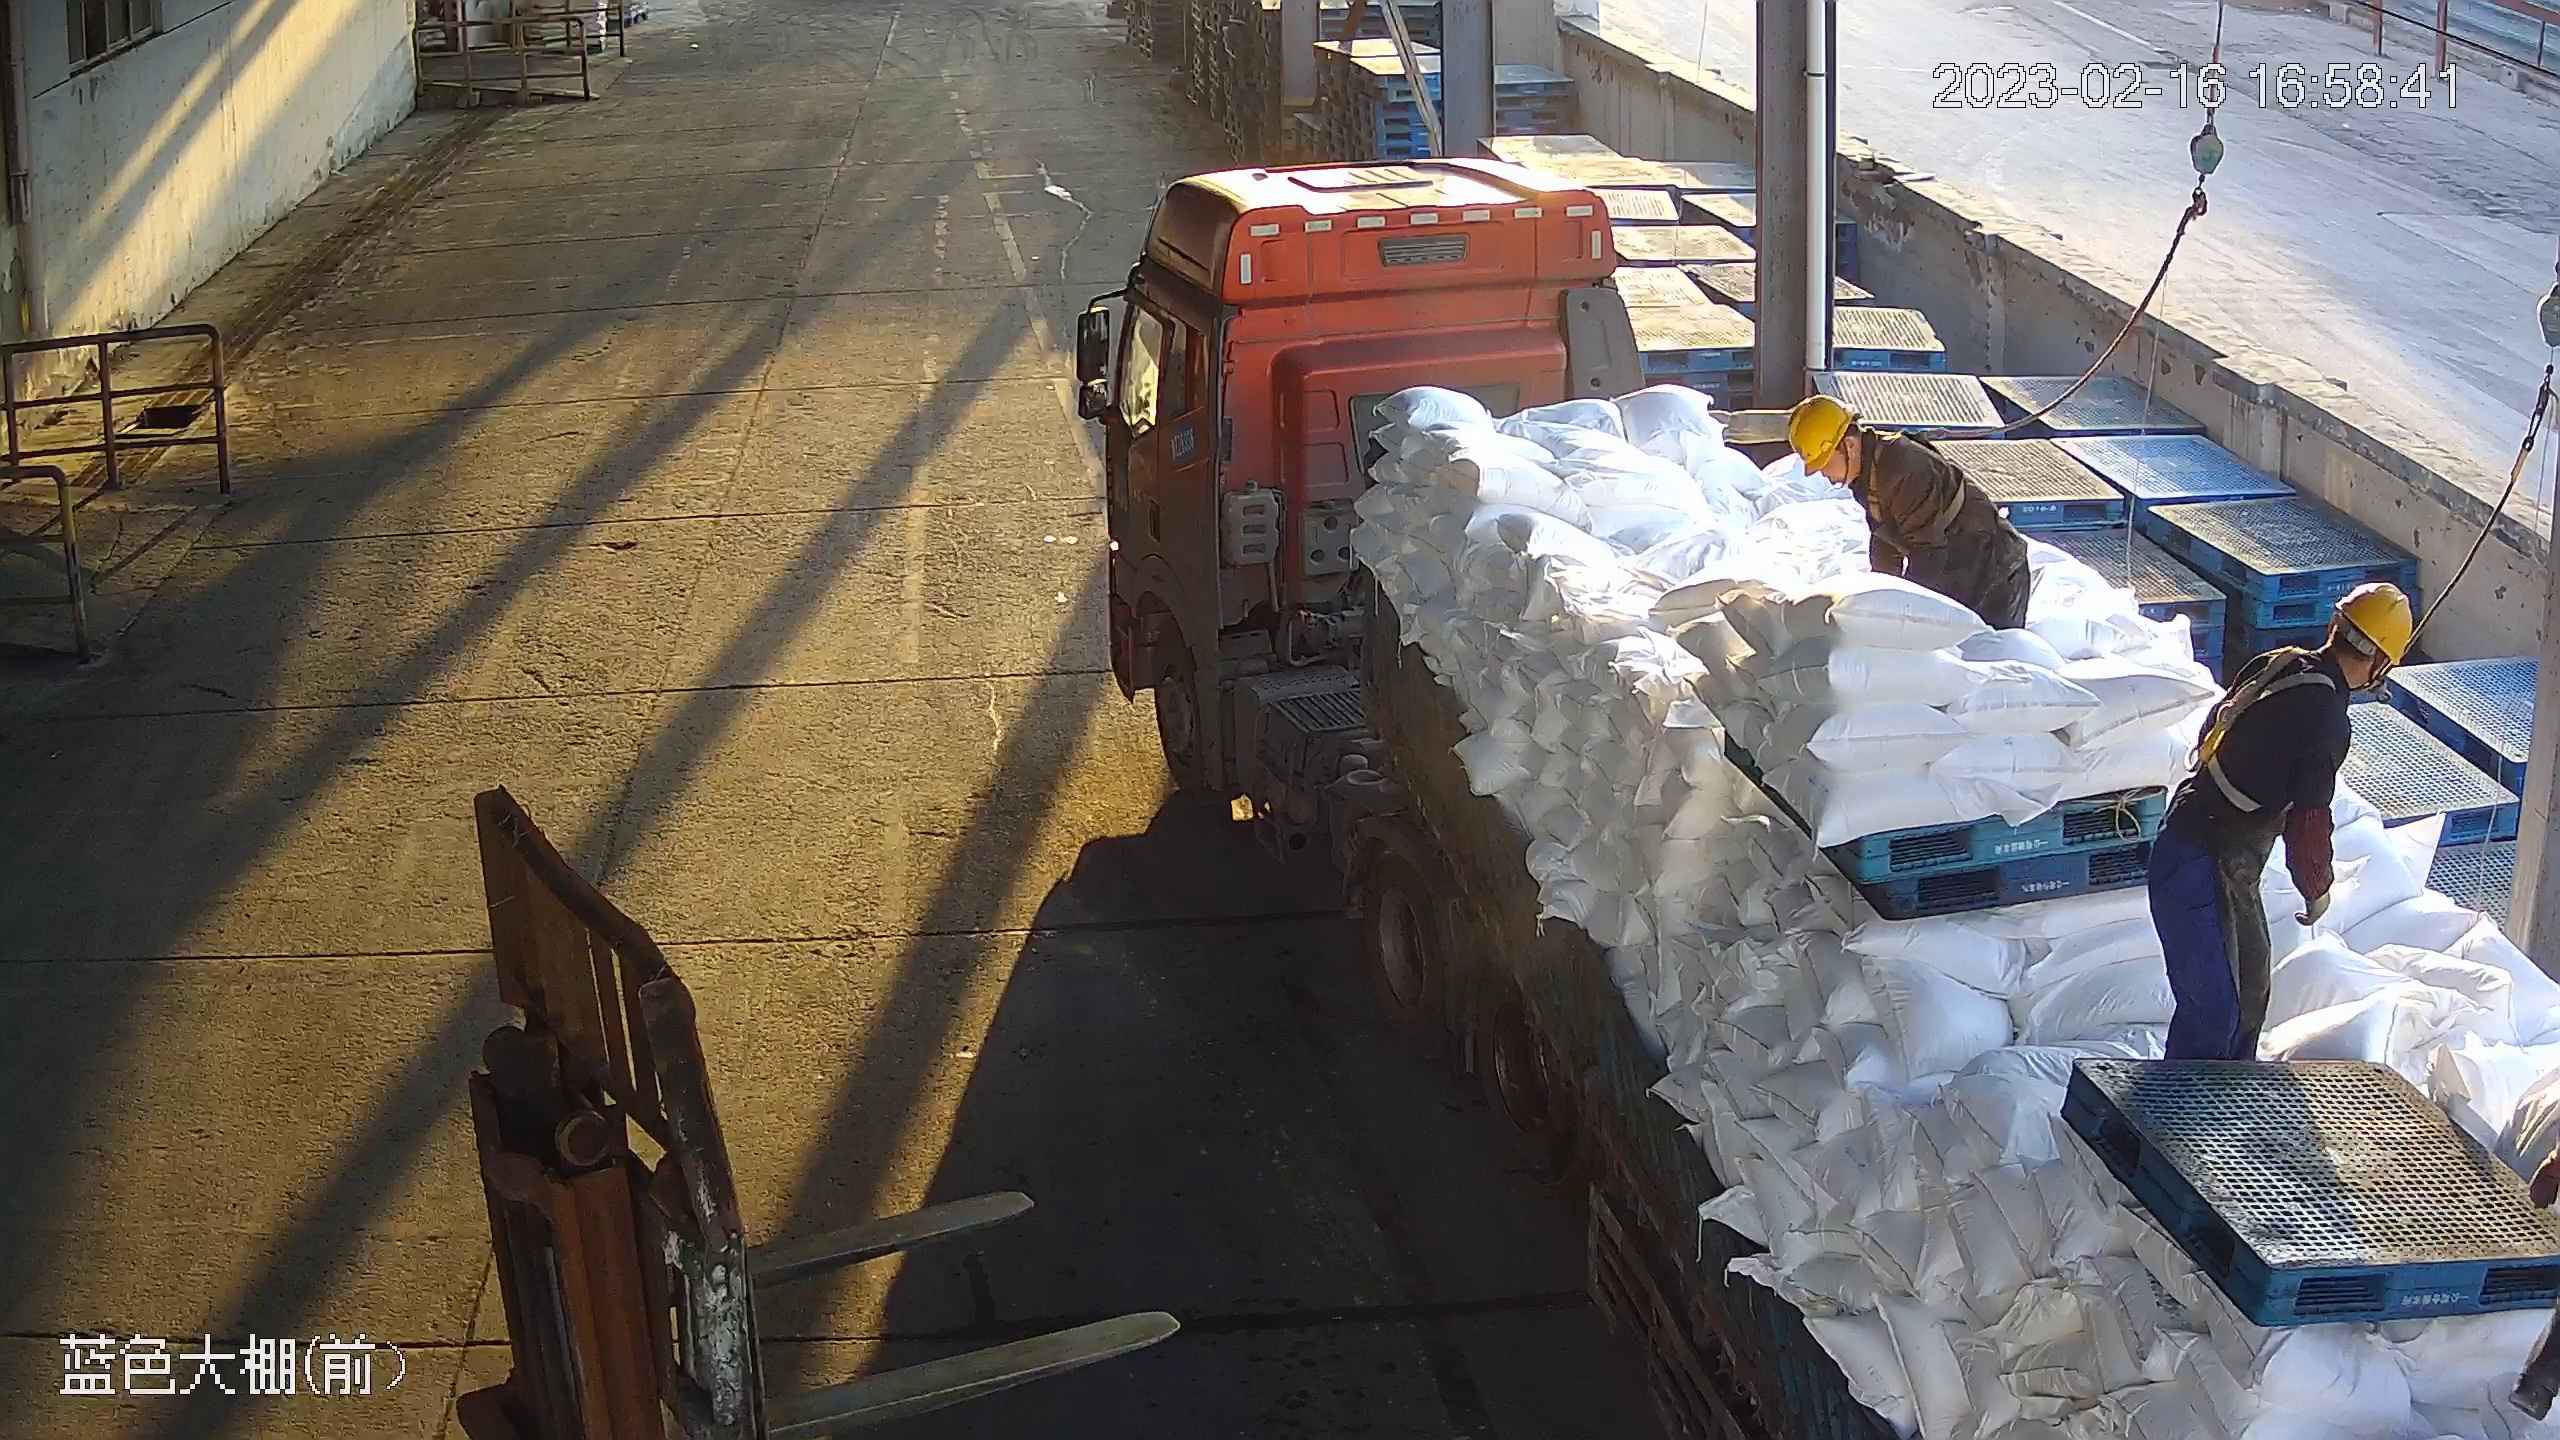belt: (2186, 660, 2320, 801), (1859, 436, 1971, 554)
head: (2244, 583, 2408, 714), (1786, 397, 1919, 502)
helmet: (2339, 579, 2411, 668), (1784, 396, 1859, 469)
people: (2145, 583, 2405, 1059), (1789, 394, 2029, 635)
truck: (1058, 148, 2560, 1440)
